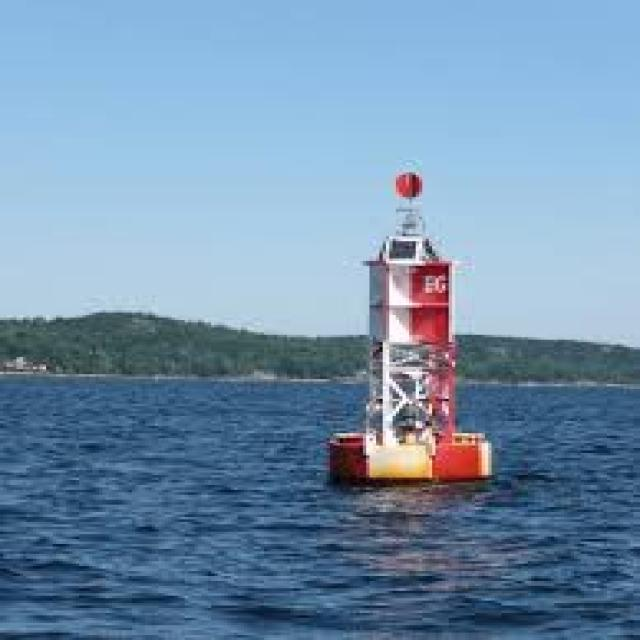buoy: (294, 141, 527, 503)
